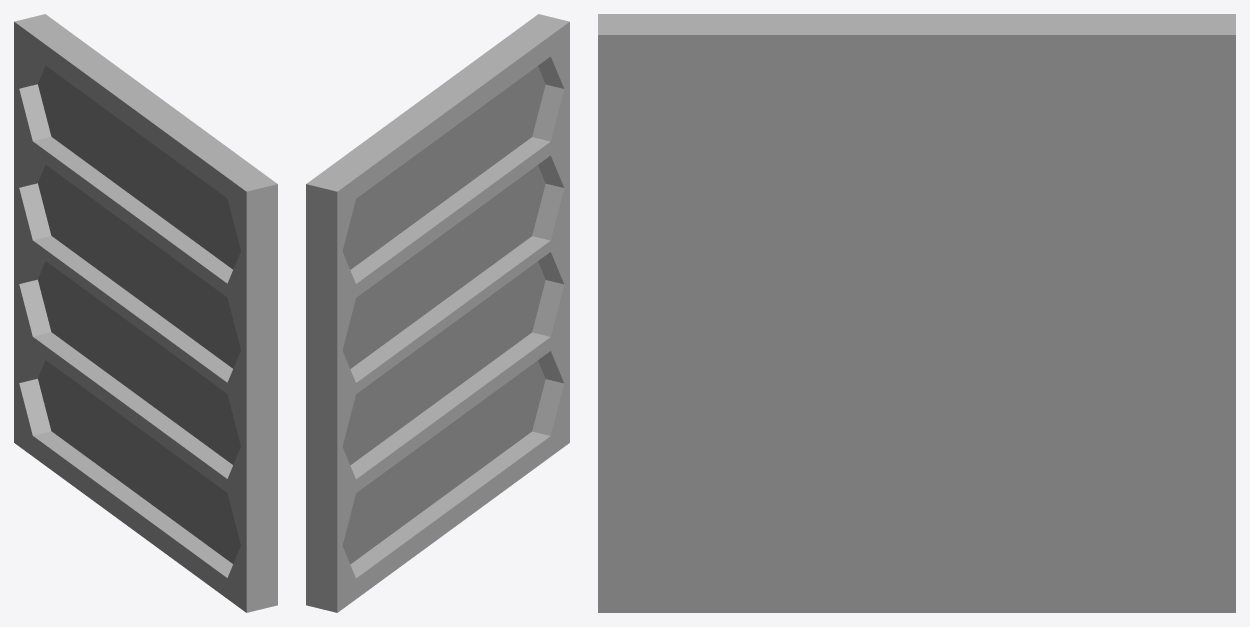
The model's file is Ventilation Grille.fbx.
3 renders of one model, left to right at view 1: azimuth 30°, elevation 25°; view 2: azimuth 150°, elevation 25°; view 3: azimuth 270°, elevation 25°, orthographic. The views are drawn at different scales.
Visible parts, largest first — view 1: Ventilation Grille; view 2: Ventilation Grille; view 3: Ventilation Grille.
Boxes of the visible parts, x1,y1,x2,y2 form: Ventilation Grille: [14, 14, 277, 612]; Ventilation Grille: [306, 14, 569, 612]; Ventilation Grille: [598, 14, 1235, 612].
Bounding box in the file's own units: 0.015 × 0.1927 × 0.1927.
